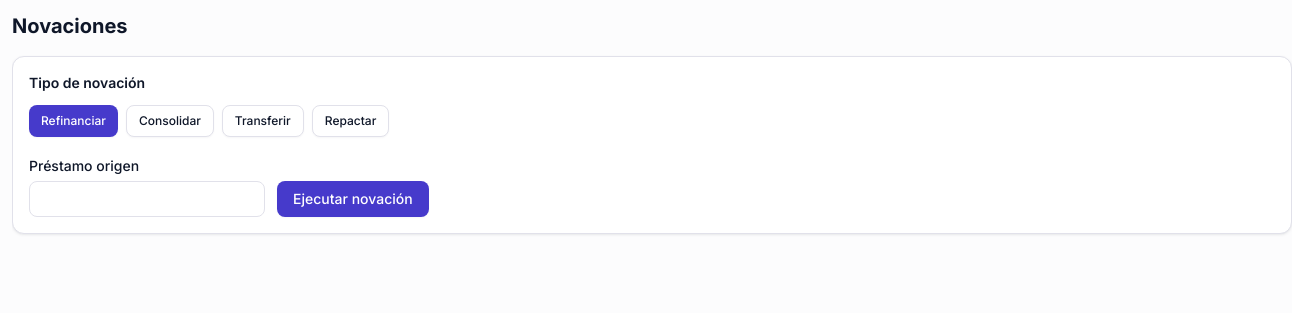
Test case: Novaciones › surfacea el error del backend como alerta en español
This screenshot has width=1292, height=313.
Click the button "Ejecutar novación".
click(353, 199)  # box [277,181,429,217]
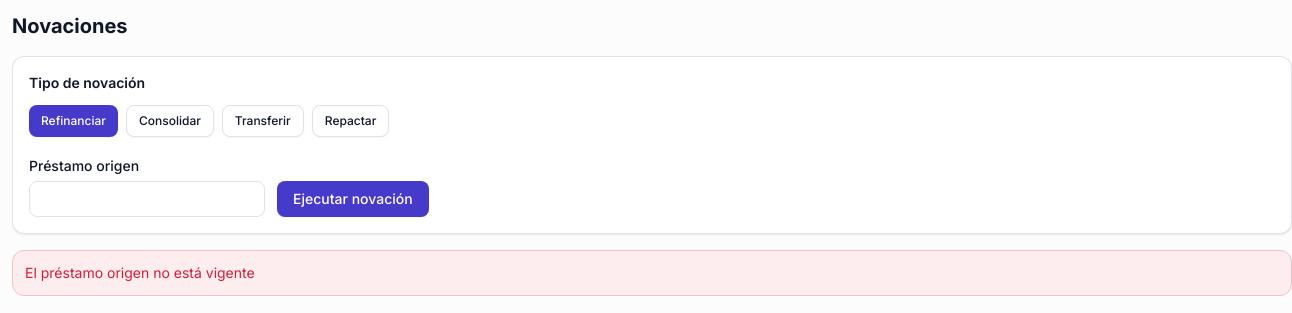
Now the text "El préstamo origen no está vigente" is shown, box [12,250,1291,296]
